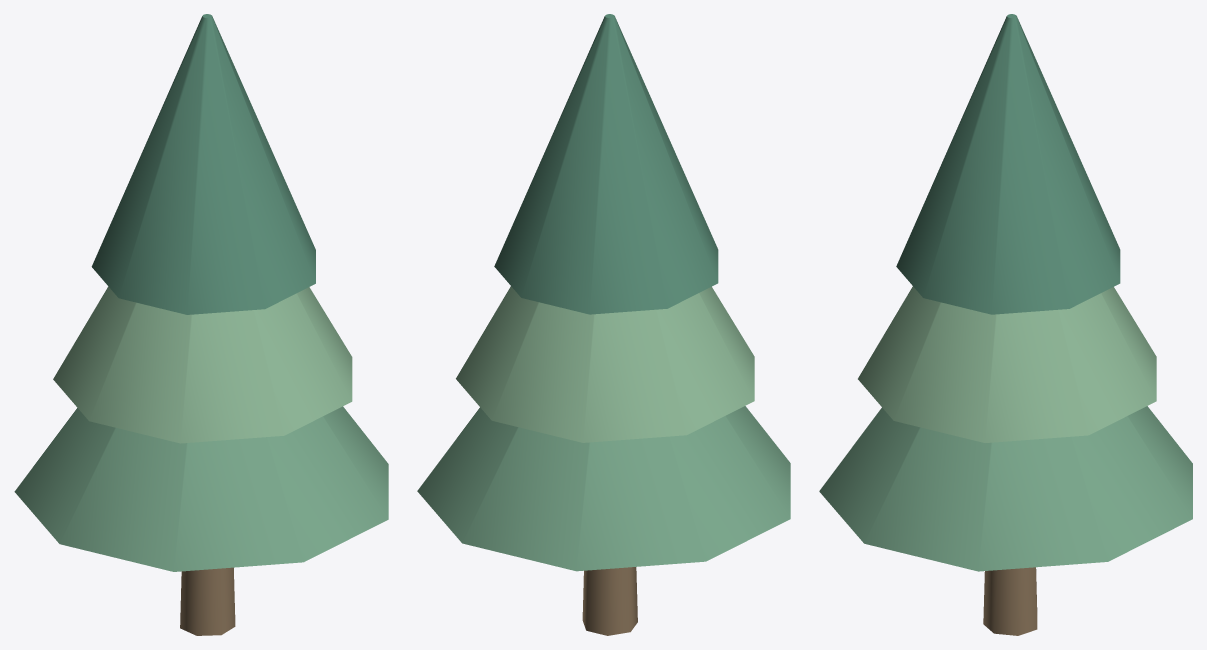
The model's file is tree-1-blue.glb.
3 views of the same model, side by side, from view 1: azimuth 30°, elevation 25°; view 2: azimuth 150°, elevation 25°; view 3: azimuth 270°, elevation 25° (orthographic).
Visible parts, largest first — view 1: tree-1; view 2: tree-1; view 3: tree-1.
Part boxes in pixels (x1=…): tree-1: x1=14, y1=14, x2=388, y2=635; tree-1: x1=417, y1=14, x2=790, y2=635; tree-1: x1=819, y1=14, x2=1192, y2=635.
Size of the model in its own units: 2.27 by 4 by 2.23.
